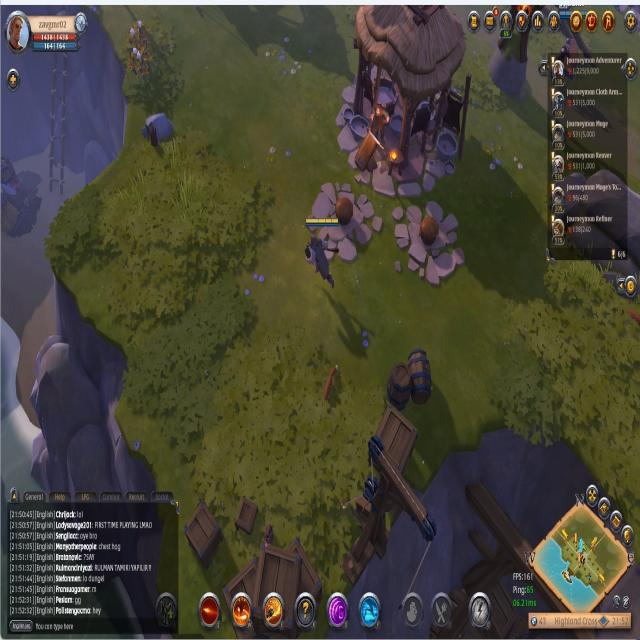stone: (140, 109, 176, 151)
